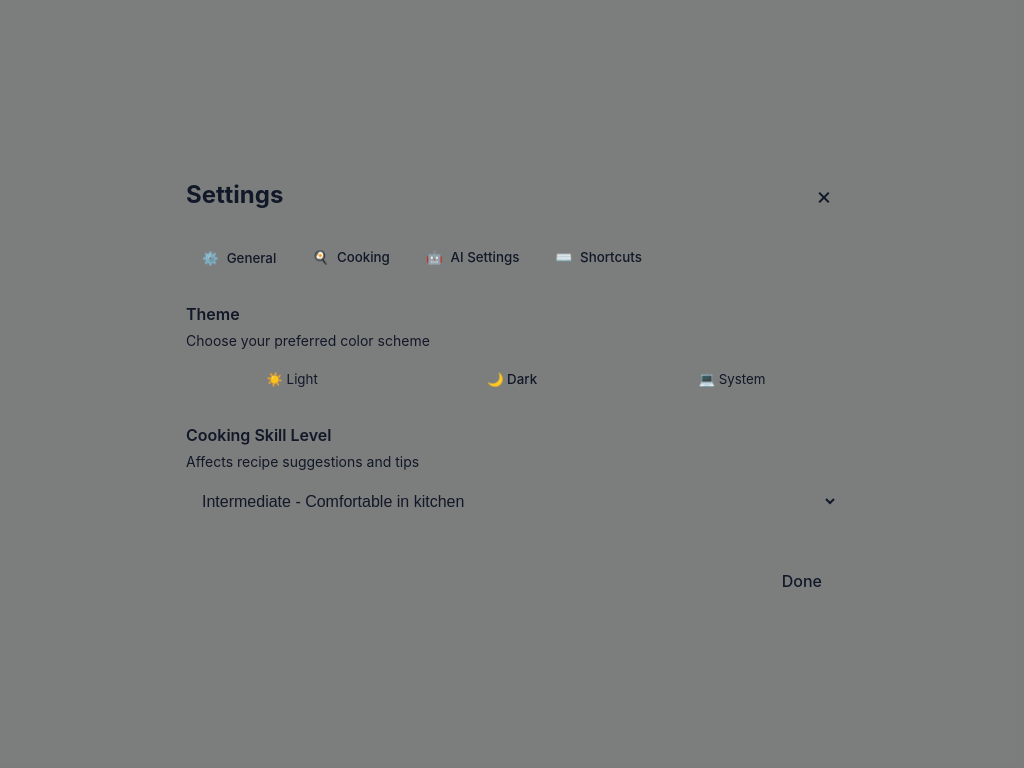
it: GeneralSettings › never saves an empty or zero timeout
Step 1. Click the button "🤖 AI Settings" → (473, 258), box top-left (410, 237), bottom-right (535, 279)
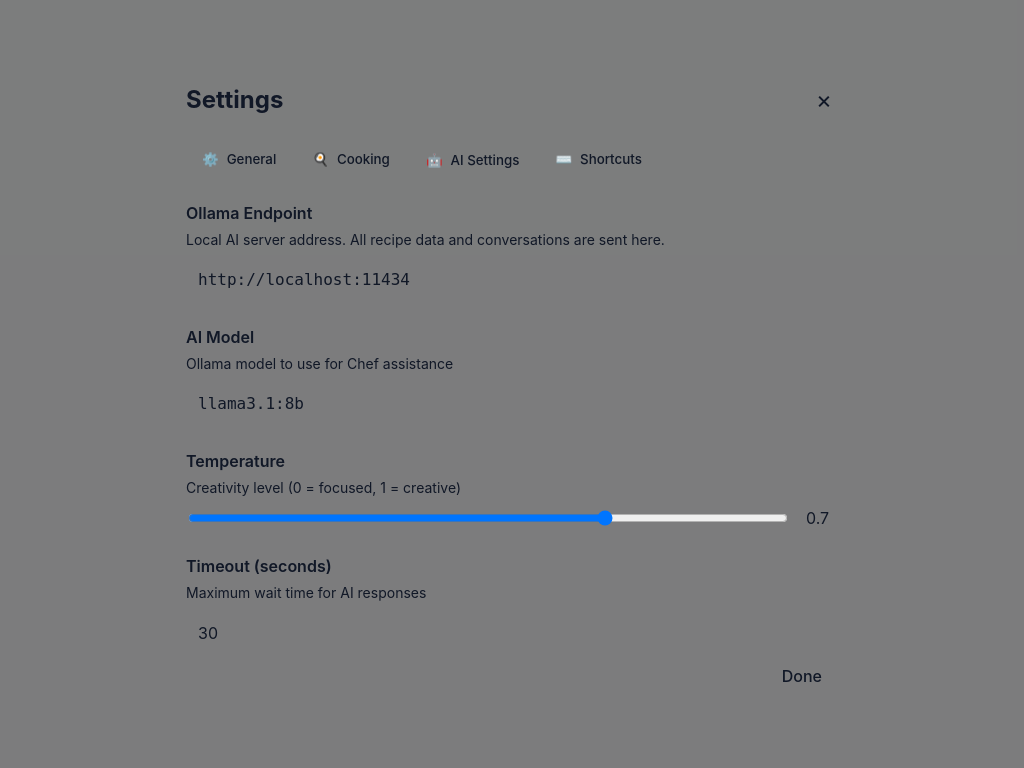
Step 2. Replace the text in the number field named "Timeout in seconds" with "0" → (512, 633), box top-left (186, 611), bottom-right (838, 655)
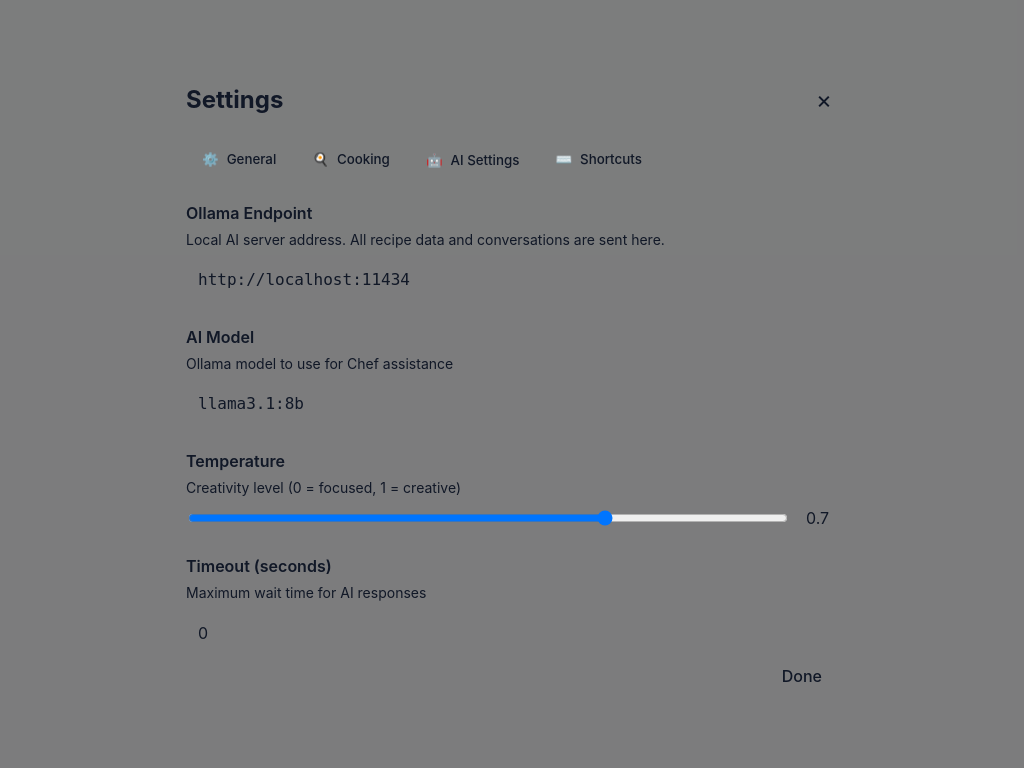
Step 3. Leave the number field named "Timeout in seconds", box top-left (186, 611), bottom-right (838, 655)
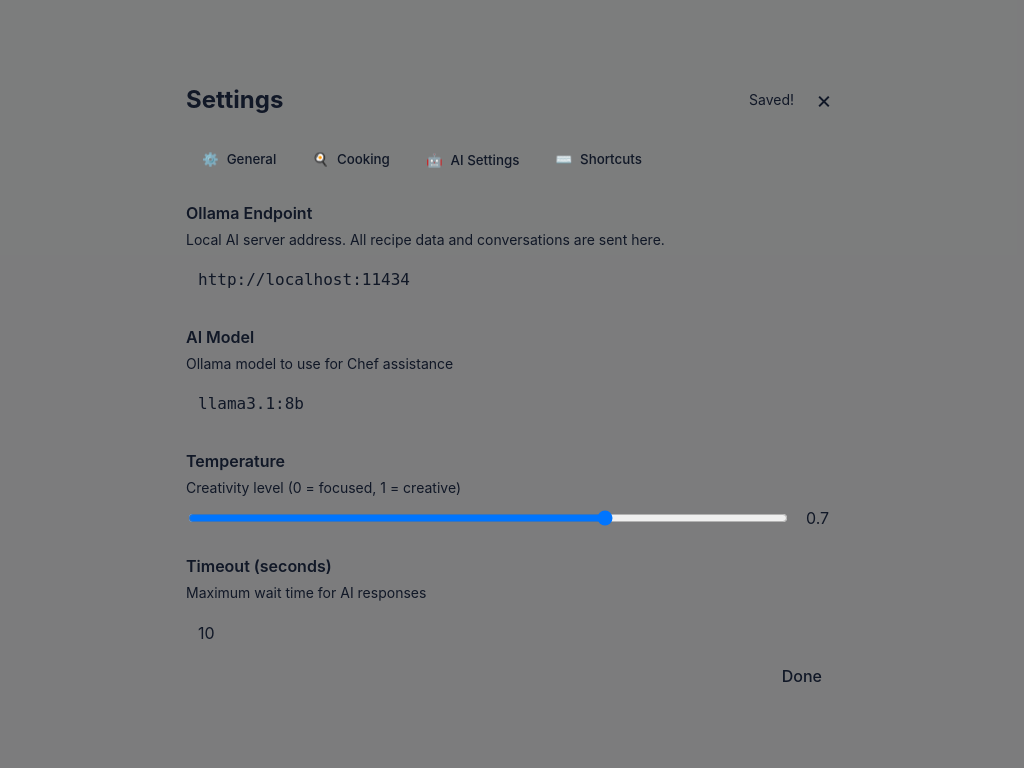
Result: the number field named "Timeout in seconds" holds "10" at top-left (186, 611), bottom-right (838, 642)
